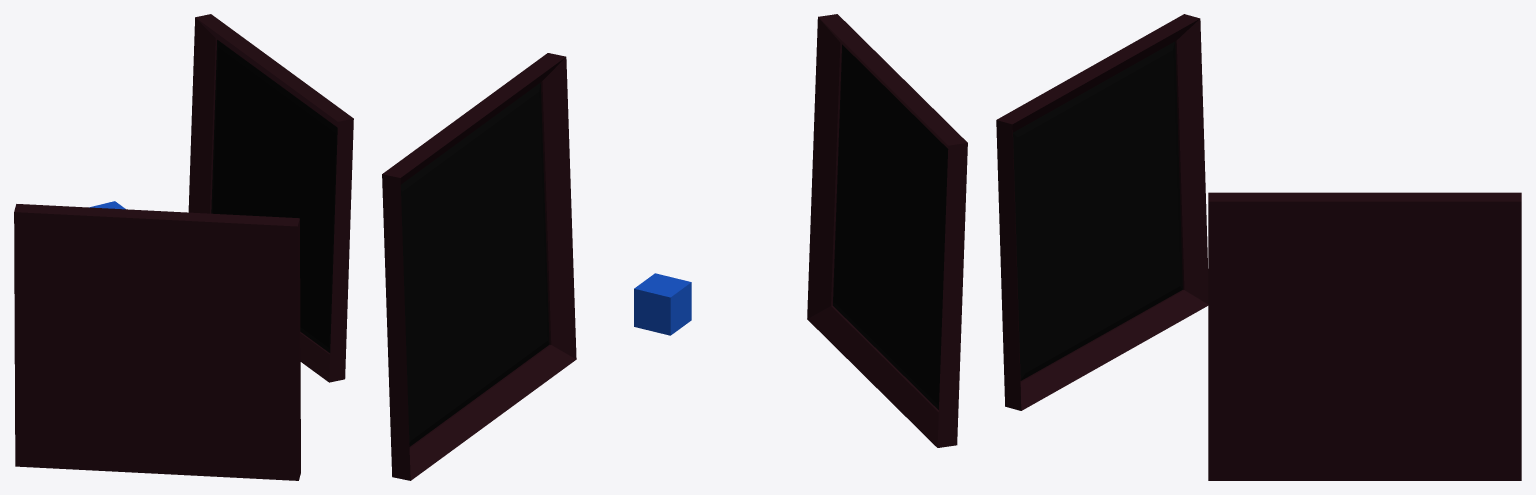
File: mirrors-box.obj
3 renders of one model, left to right at view 1: azimuth 30°, elevation 25°; view 2: azimuth 150°, elevation 25°; view 3: azimuth 270°, elevation 25°, orthographic. The views are drawn at different scales.
Parts seen in each view (by area): view 1: 14319_Artik_Mirror-Black_v1_l1.000_14319_Artik_Mirror-Black_v1_l, 14319_Artik_Mirror-Black_v1_l1.001; view 2: 14319_Artik_Mirror-Black_v1_l1.001, 14319_Artik_Mirror-Black_v1_l1.000_14319_Artik_Mirror-Black_v1_l, Cube_Cube.002; view 3: 14319_Artik_Mirror-Black_v1_l1.001, 14319_Artik_Mirror-Black_v1_l1.000_14319_Artik_Mirror-Black_v1_l.
Part boxes in pixels (x1,y1,x2,y2): 14319_Artik_Mirror-Black_v1_l1.000_14319_Artik_Mirror-Black_v1_l: (14,204,300,480); 14319_Artik_Mirror-Black_v1_l1.001: (188,14,353,382); 14319_Artik_Mirror-Black_v1_l1.001: (382,53,576,480); 14319_Artik_Mirror-Black_v1_l1.000_14319_Artik_Mirror-Black_v1_l: (807,14,967,447); Cube_Cube.002: (634,273,691,335); 14319_Artik_Mirror-Black_v1_l1.001: (1208,192,1521,480); 14319_Artik_Mirror-Black_v1_l1.000_14319_Artik_Mirror-Black_v1_l: (996,14,1208,410).
Size of the model in its own units: 22.31 by 15.76 by 26.37.
